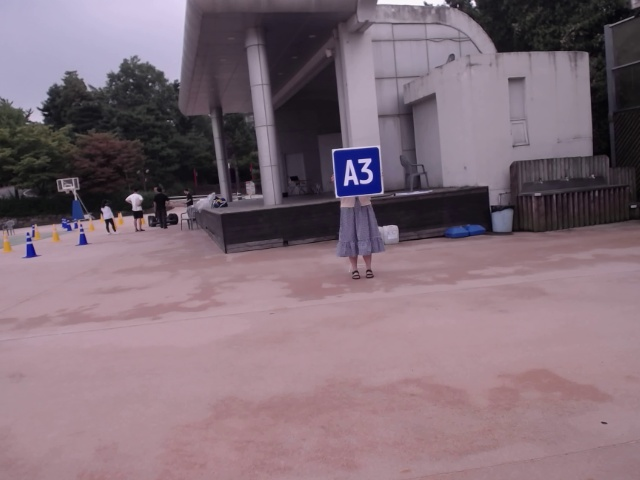delivery_a3: (333, 147, 383, 197)
